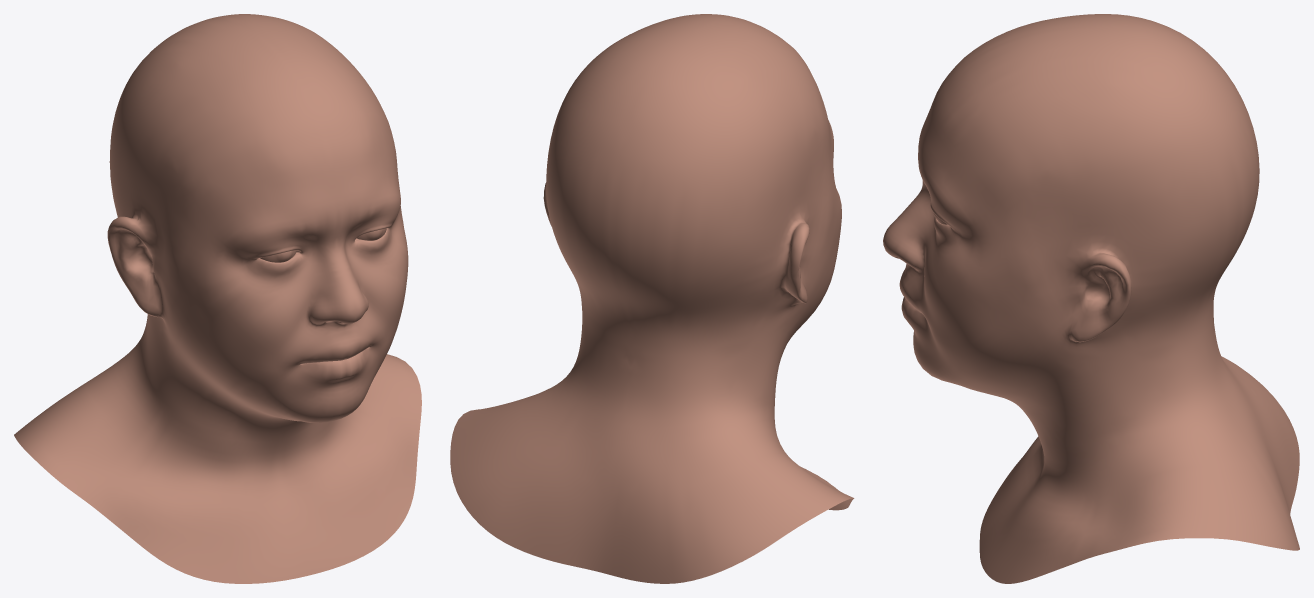
The model's file is gnm_female_asian_01.obj.
3 views of the same model, side by side, from view 1: azimuth 30°, elevation 25°; view 2: azimuth 150°, elevation 25°; view 3: azimuth 270°, elevation 25° (orthographic). The views are drawn at different scales.
Parts seen in each view (by area): view 1: GNM_Female_Asian; view 2: GNM_Female_Asian; view 3: GNM_Female_Asian.
Boxes of the visible parts, x1,y1,x2,y2 form: GNM_Female_Asian: (14,14,421,583); GNM_Female_Asian: (450,14,854,583); GNM_Female_Asian: (883,14,1299,583).
Size of the model in its own units: 0.2643 by 0.3363 by 0.2444.
